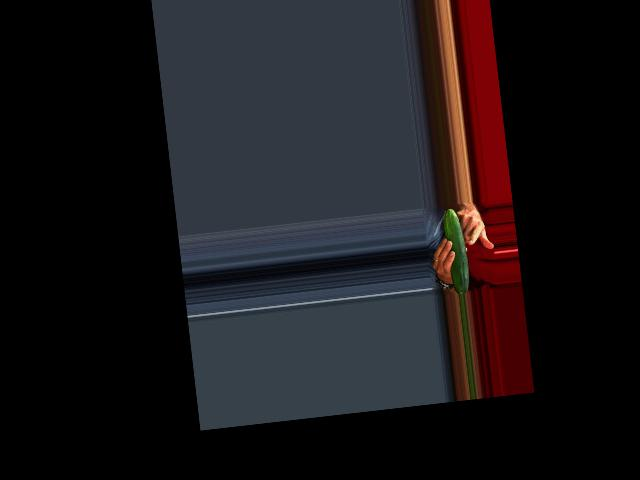cucumber: (441, 207, 471, 295)
